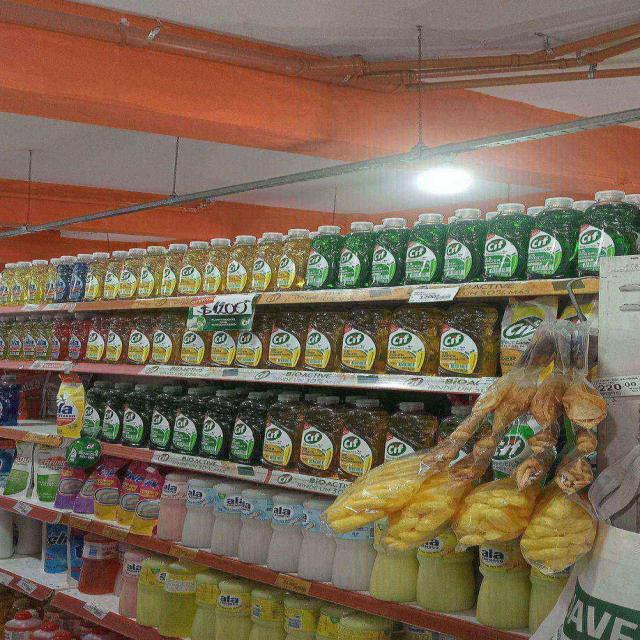ala_conc_azul: (46, 257, 70, 303), (0, 374, 19, 426), (68, 255, 86, 303)
ala_conc_rojo: (63, 316, 85, 363)
ala_crem_amarillo: (217, 577, 248, 640), (195, 568, 216, 640)
cif_conc_bot_amarilla: (436, 302, 495, 377), (339, 397, 382, 479), (382, 305, 432, 375), (300, 394, 338, 476), (262, 393, 296, 469), (340, 307, 379, 373), (304, 308, 338, 372), (267, 310, 303, 369), (234, 311, 264, 368), (124, 313, 150, 365), (100, 314, 124, 364), (84, 315, 108, 364)
cif_conc_botella_verde: (523, 196, 569, 280), (480, 204, 520, 282), (573, 192, 608, 279), (403, 212, 439, 285), (441, 208, 476, 283), (368, 217, 402, 287), (229, 391, 260, 464), (304, 224, 335, 290), (336, 222, 367, 288), (200, 388, 228, 459), (172, 388, 198, 454), (121, 382, 147, 448), (147, 385, 171, 451), (82, 380, 102, 450), (100, 381, 120, 444), (610, 603, 640, 639)
